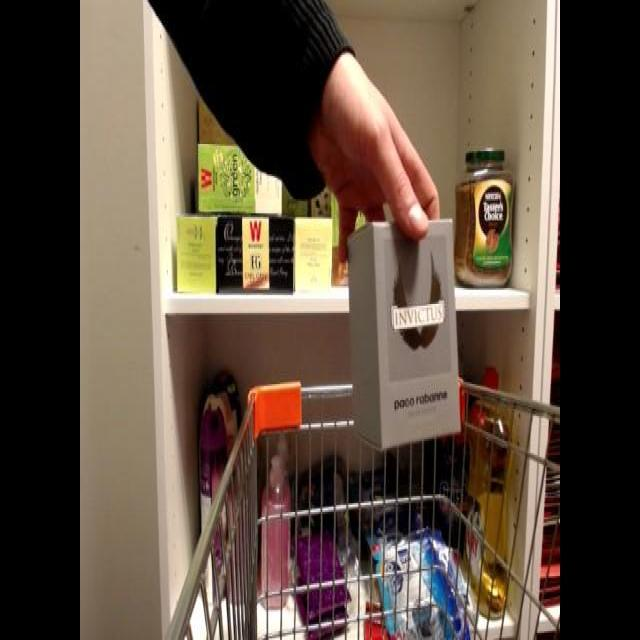Paco Rabanne: (339, 212, 464, 448)
